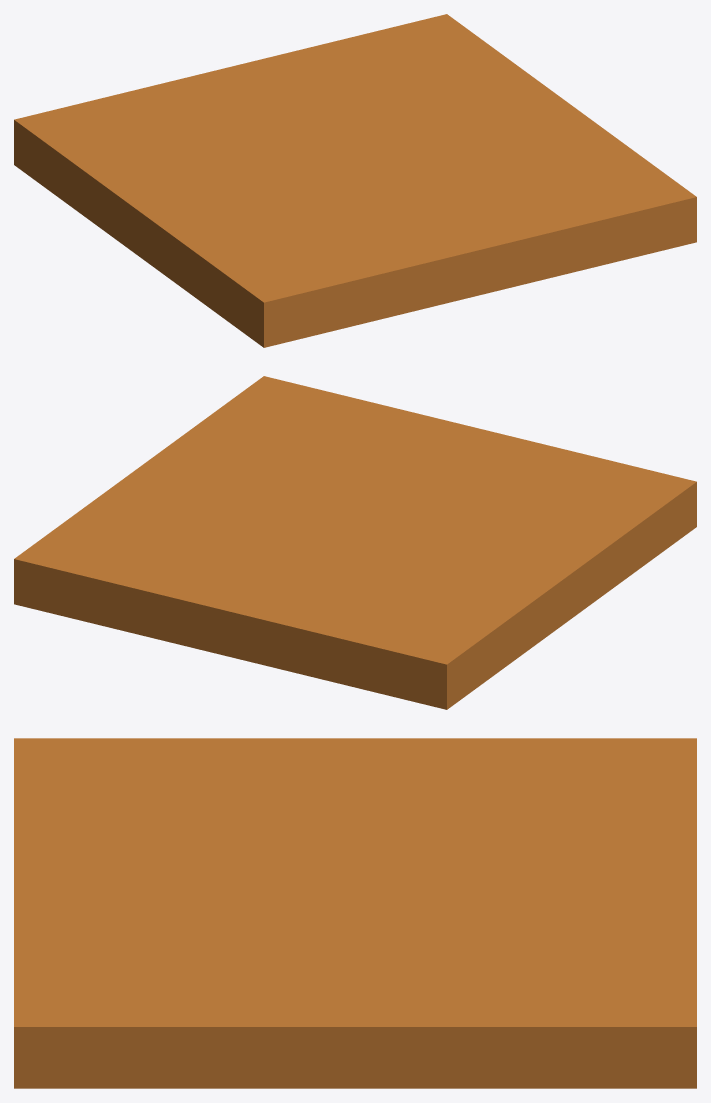
Rendered from input.glb.
3 renders of one model, top to bottom at view 1: azimuth 30°, elevation 25°; view 2: azimuth 150°, elevation 25°; view 3: azimuth 270°, elevation 25°, orthographic. The views are drawn at different scales.
Bounding box in the file's own units: 10 × 1 × 10.
